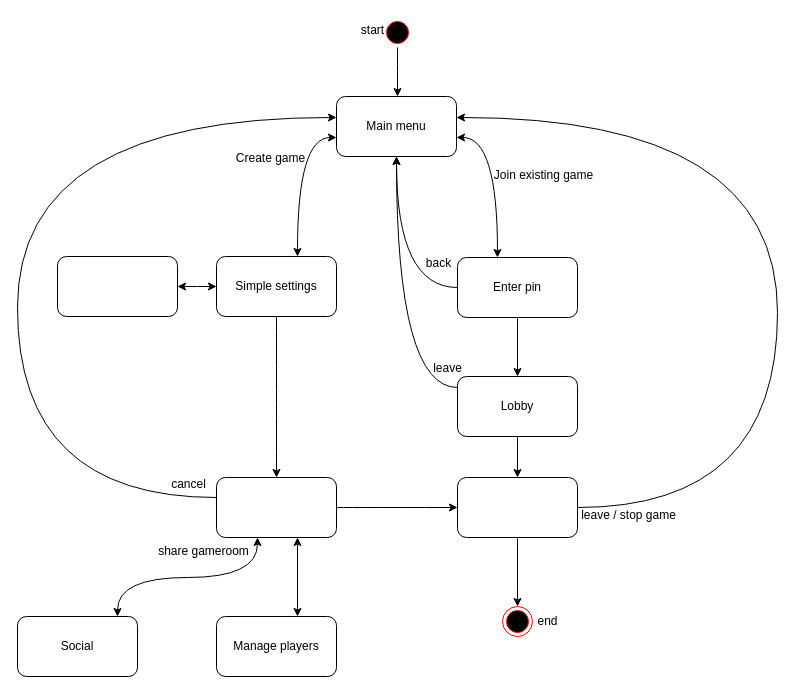
This 795x694 diagram has some shape labels left out. The centre of each missing label's shape, as x and y in pixels:
Advanced settings: the point at 117,286
Game screen: the point at 517,507
Gamemaster screen: the point at 276,507
